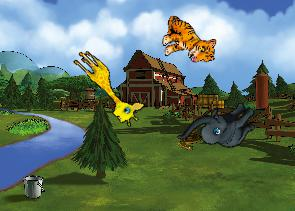elephant: (176, 82, 263, 171)
giraffe: (63, 46, 149, 130)
tiger: (160, 15, 217, 64)
